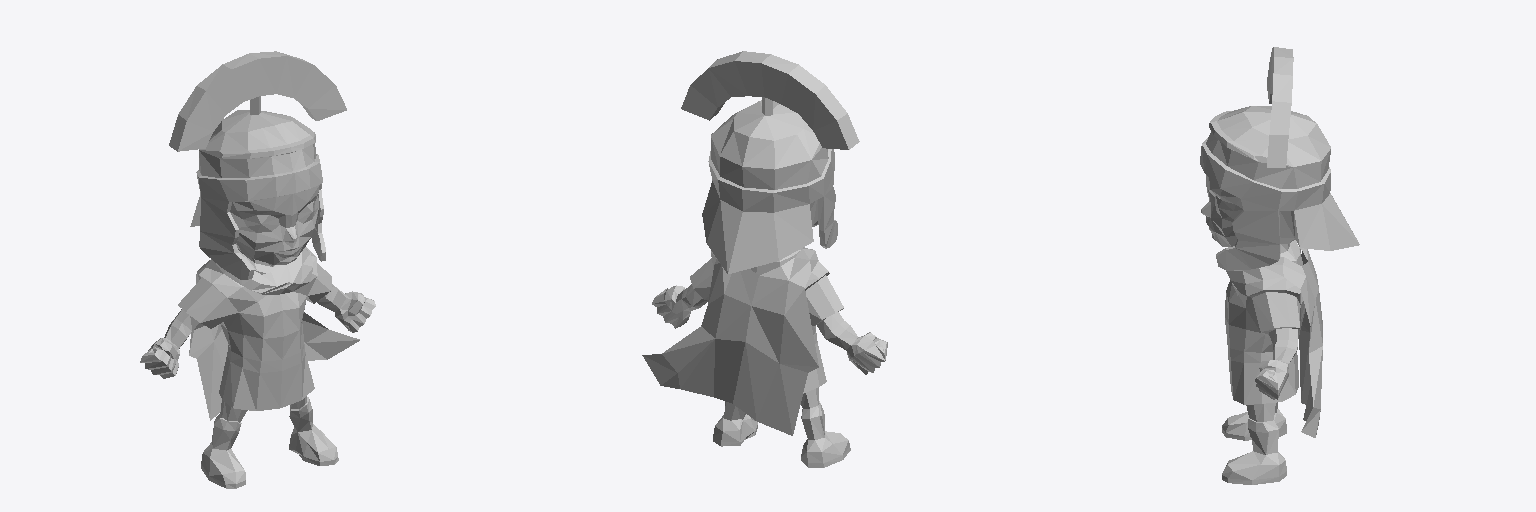
The model's file is general_posed.obj.
3 renders of one model, left to right at view 1: azimuth 30°, elevation 25°; view 2: azimuth 150°, elevation 25°; view 3: azimuth 270°, elevation 25°, orthographic.
Parts seen in each view (by area): view 1: pasted__pasted__polySurface10; view 2: pasted__pasted__polySurface10; view 3: pasted__pasted__polySurface10.
Part boxes in pixels (left/top/right/bottom): pasted__pasted__polySurface10: left=140, top=51, right=375, bottom=488; pasted__pasted__polySurface10: left=642, top=51, right=887, bottom=467; pasted__pasted__polySurface10: left=1200, top=47, right=1359, bottom=484.
Bounding box in the file's own units: 5.54 × 9.03 × 3.3.